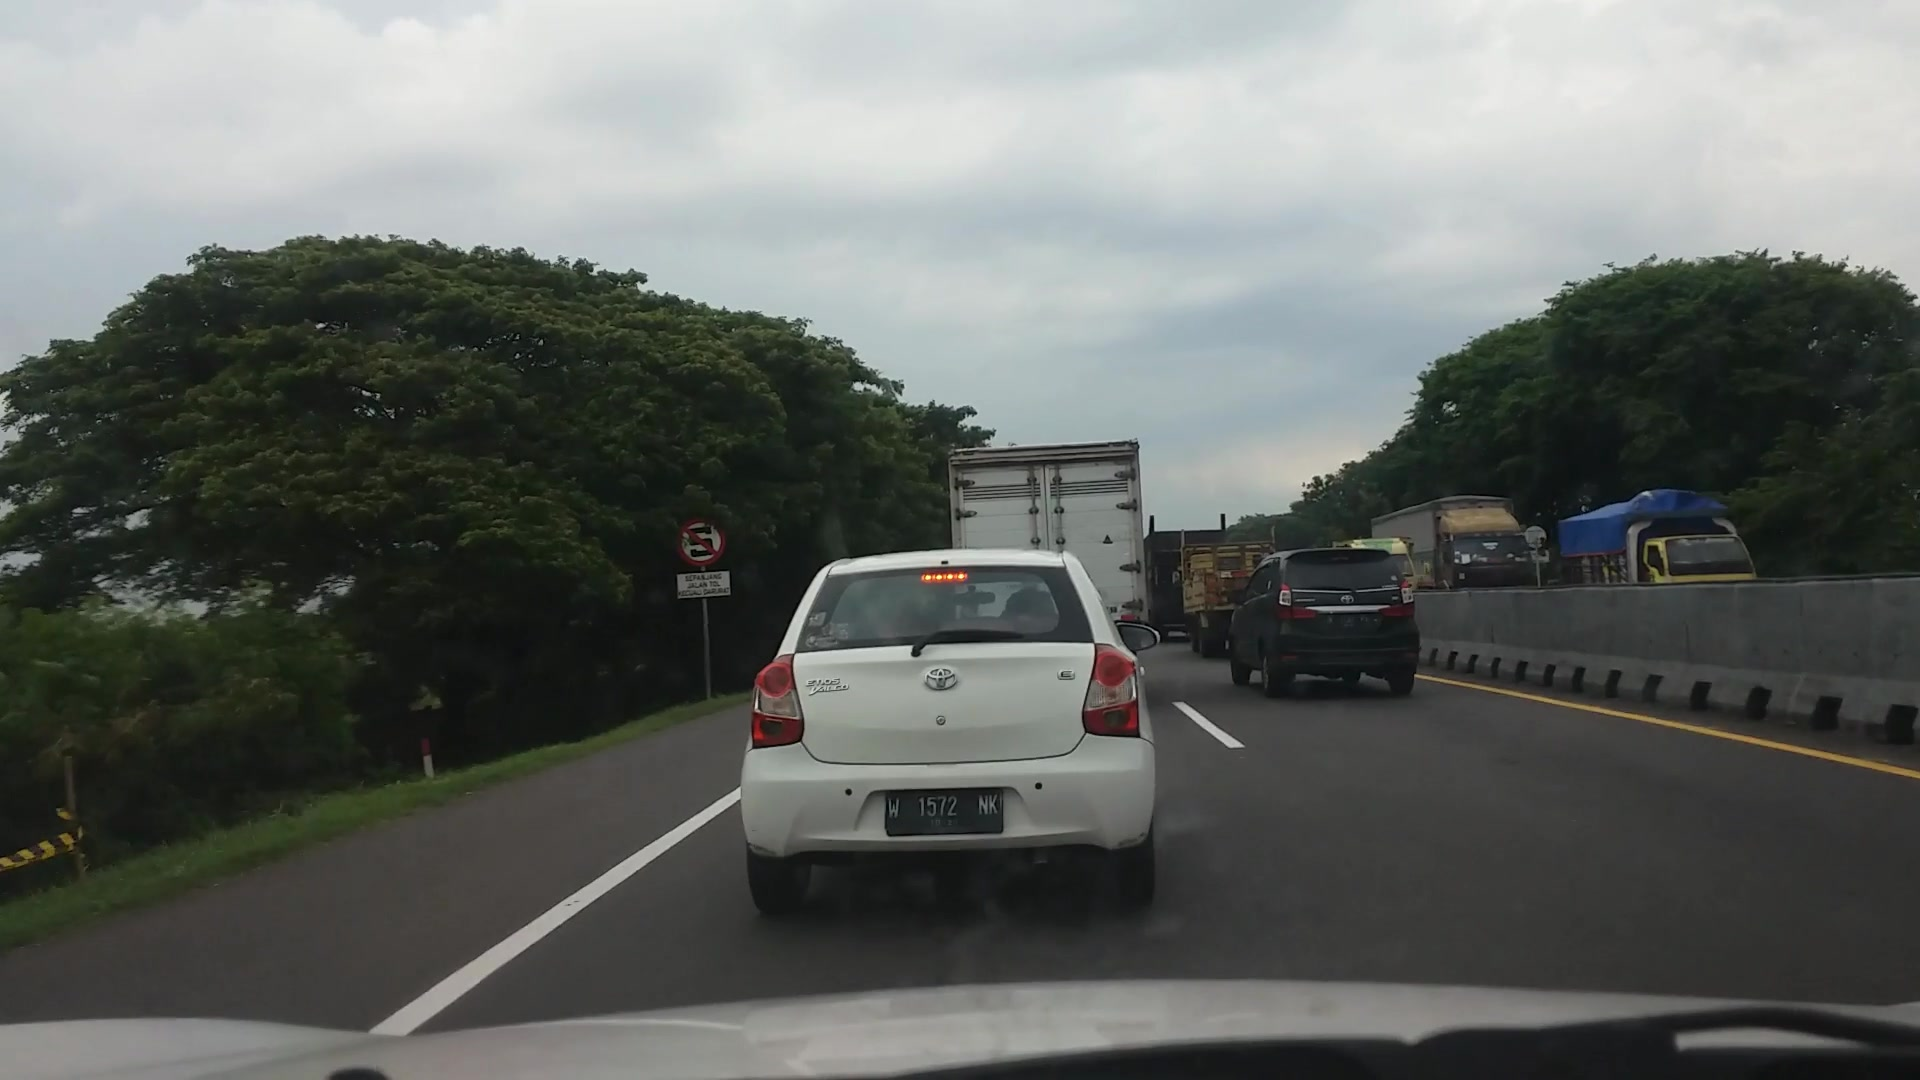plate_positive: (885, 789, 1004, 836)
